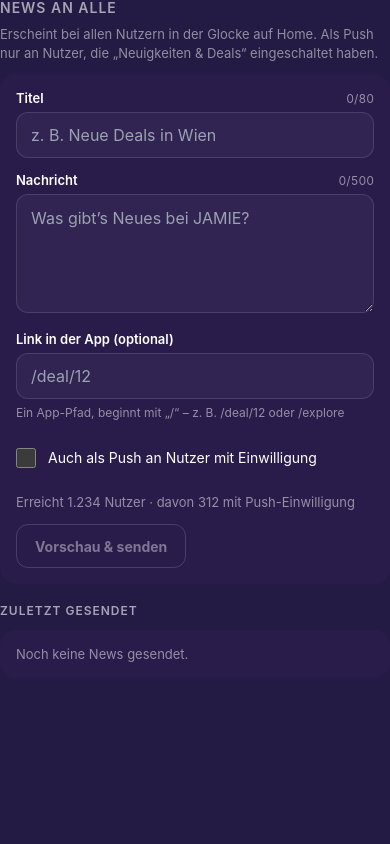
Test case: AdminNewsSection › no answer at all warns against a blind retry
The width and height of the screenshot is (390, 844).
Step 1. Type "Neue Deals in Wien" into the field labelled "Titel" → (195, 136), box [16,112,374,158]
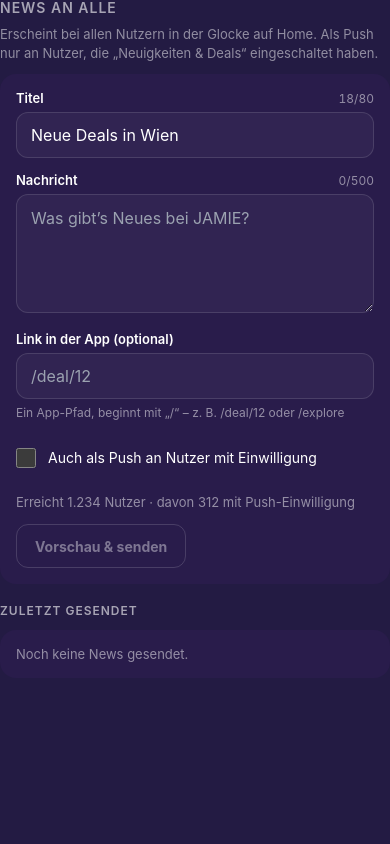
Step 2. Type "Drei neue Kooperationen — schau rein!" into the text box labelled "Nachricht" → (195, 254), box [16,194,374,313]
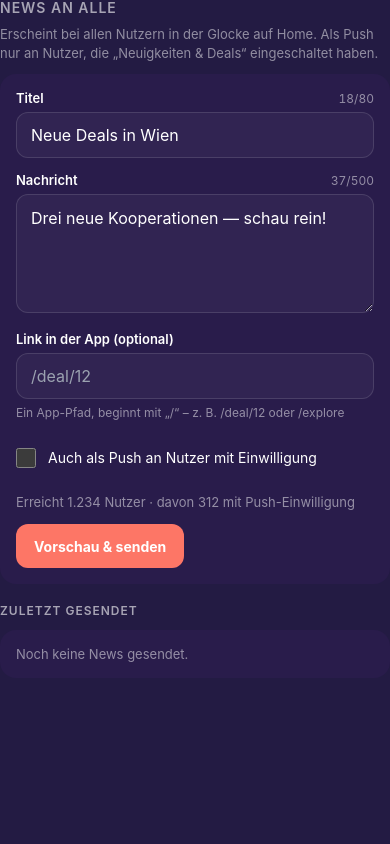
Step 3. Click the button "Vorschau & senden" → (100, 546), box [16,524,184,568]
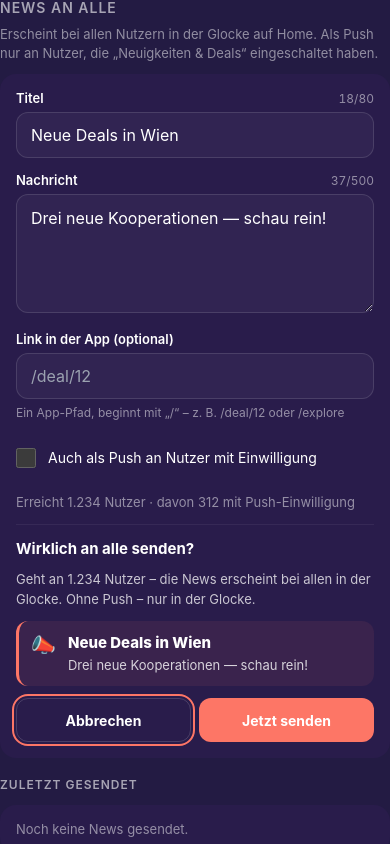
Step 4. Click the button "Jetzt senden" → (286, 720), box [199,698,374,742]
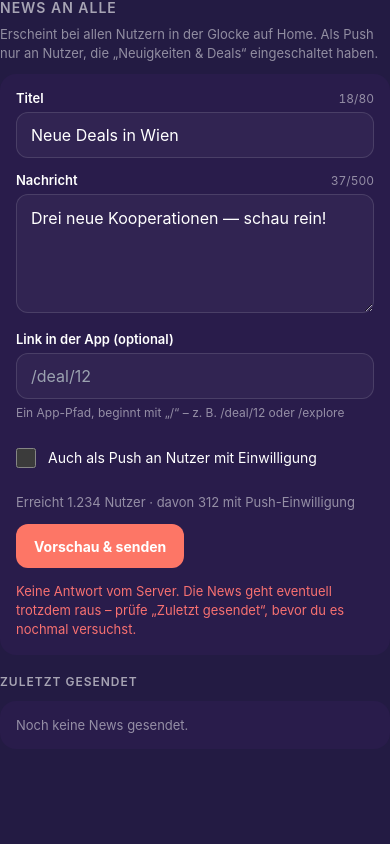
Now the 2nd message shows "Keine Antwort vom Server.", box [16,583,344,637]
